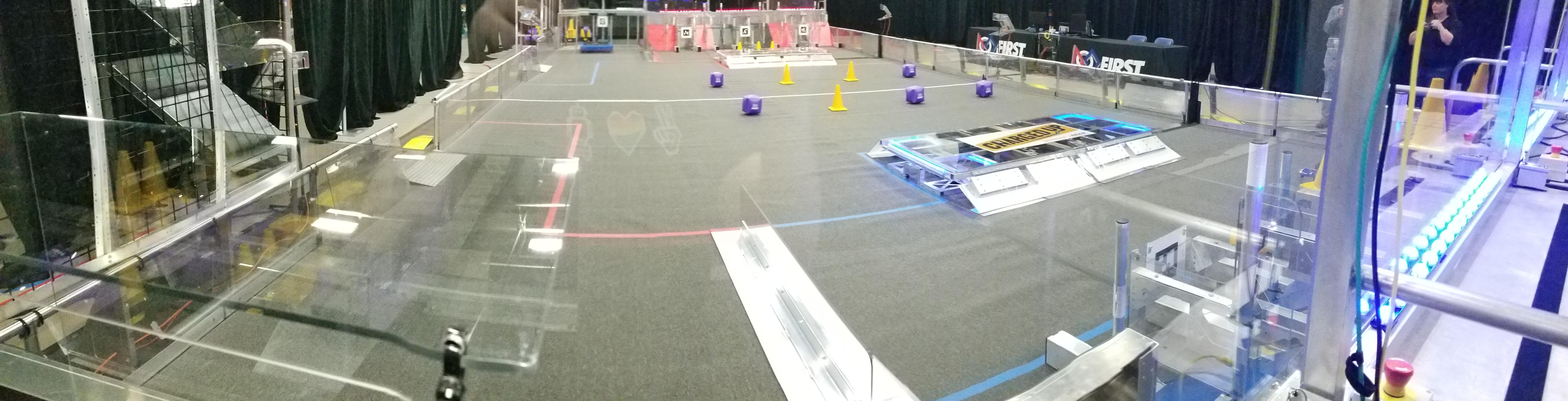cone: (1399, 76, 1458, 156), (1296, 141, 1333, 196), (824, 84, 853, 116), (778, 64, 798, 88), (841, 60, 860, 84), (565, 16, 578, 36), (735, 42, 744, 55), (769, 42, 778, 55), (755, 41, 763, 54)
cube: (741, 93, 764, 122), (973, 79, 999, 103), (905, 85, 929, 107), (706, 70, 729, 92), (901, 63, 919, 80)
robot: (577, 42, 617, 55)
